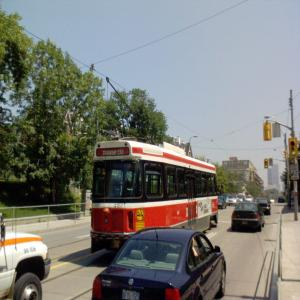Vehicle-registration-plate: (122, 290, 141, 300)
